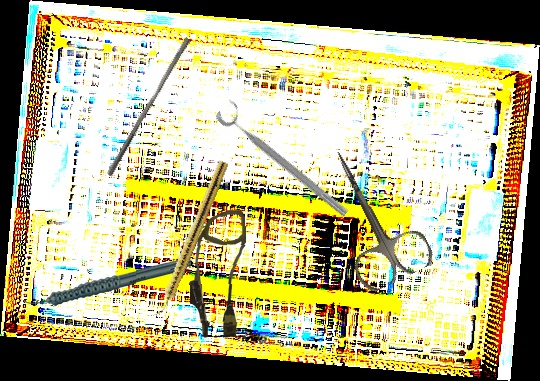Cannula: (185, 209, 252, 340)
Fixation Ring: (213, 97, 358, 221)
Handpiece: (153, 158, 229, 320), (22, 257, 192, 308)
Iris Scissors: (304, 134, 438, 296)
Pusher: (106, 34, 192, 180)
